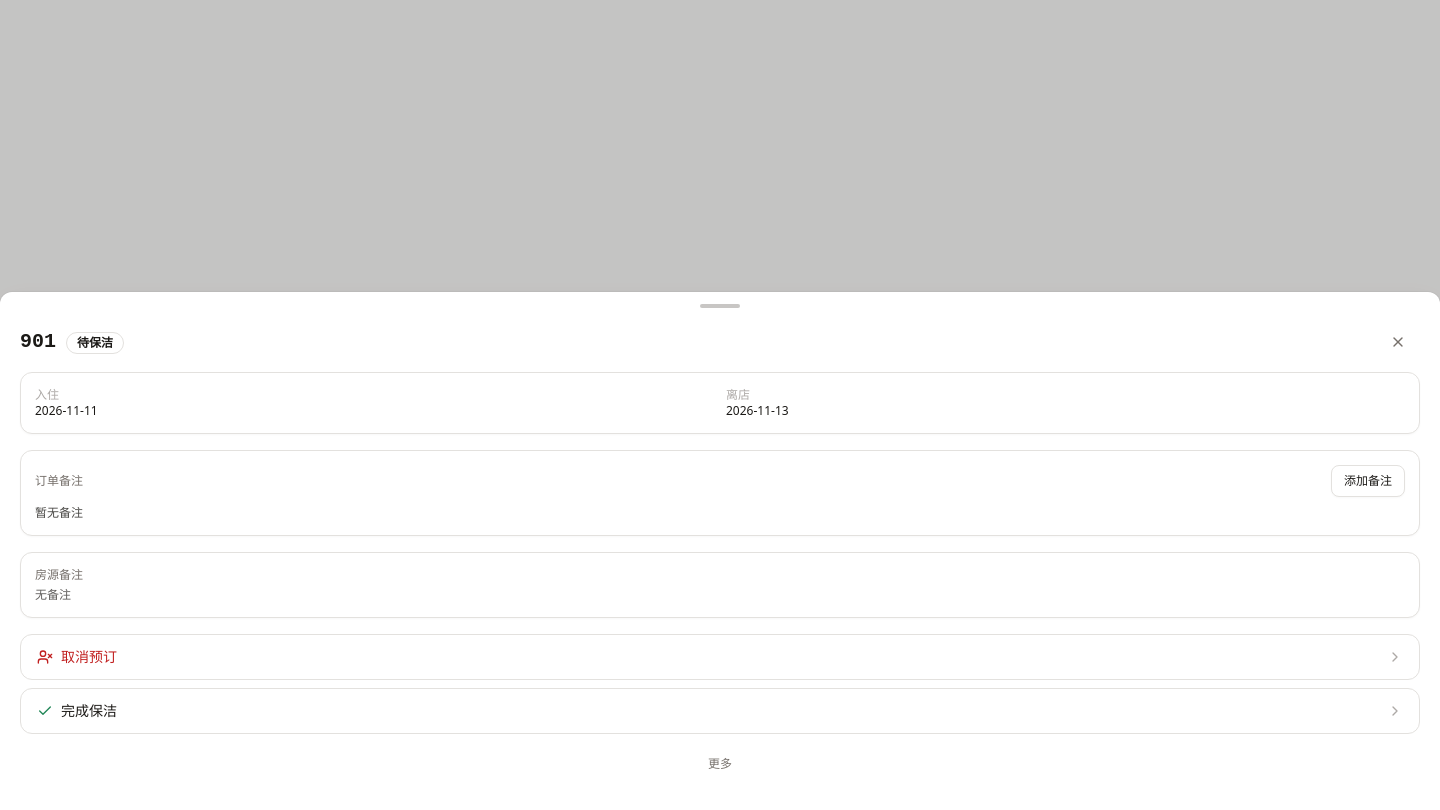
Test: keeps the mobile confirmation open and shows the service failure
Step 1. Click the button "取消预订" → (89, 656), box [20,634,1420,680]
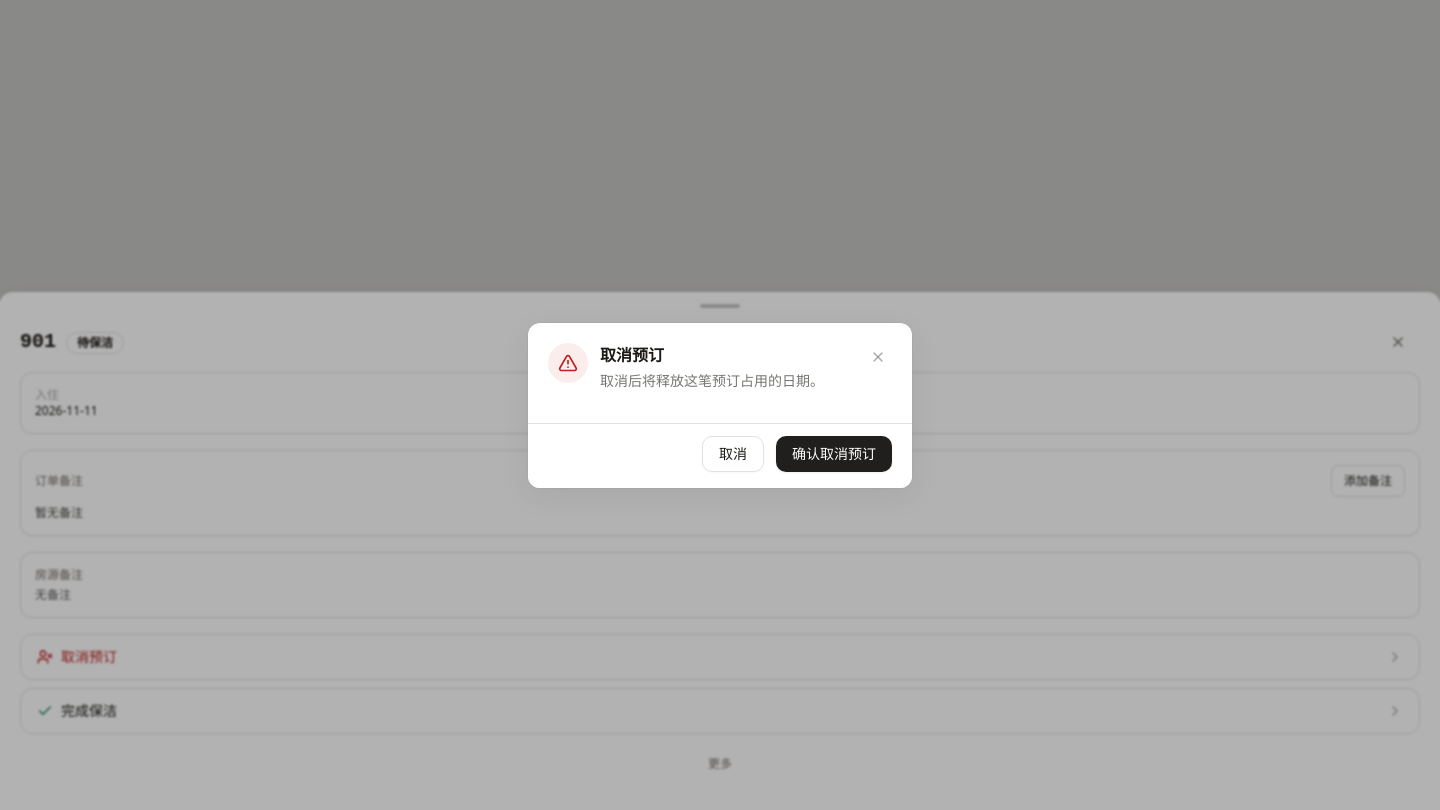
Step 2. Click the button "确认取消预订" → (834, 454), box [776,436,892,472]
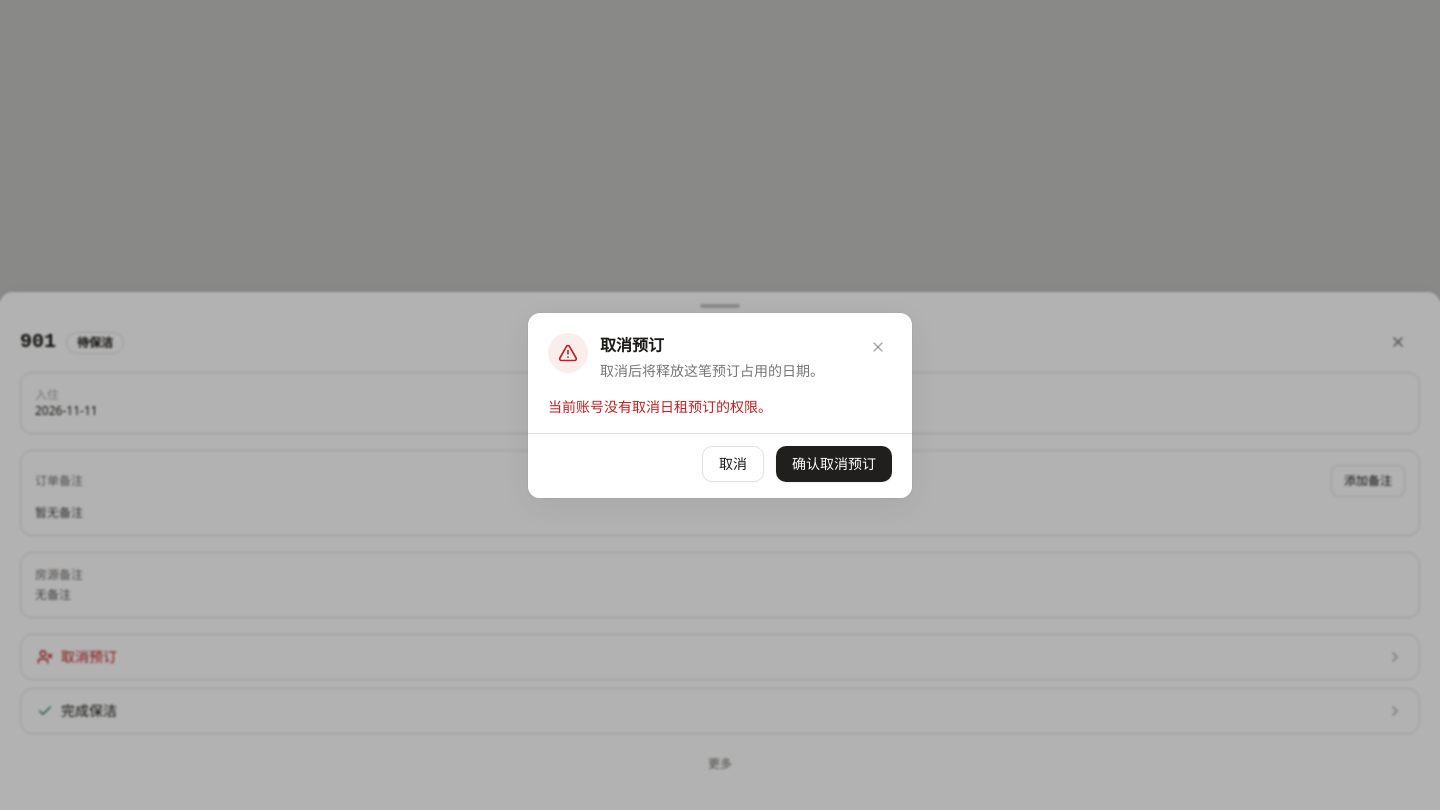
Expected: the message "当前账号没有取消日租预订的权限。" is shown, [548,396,772,416]
